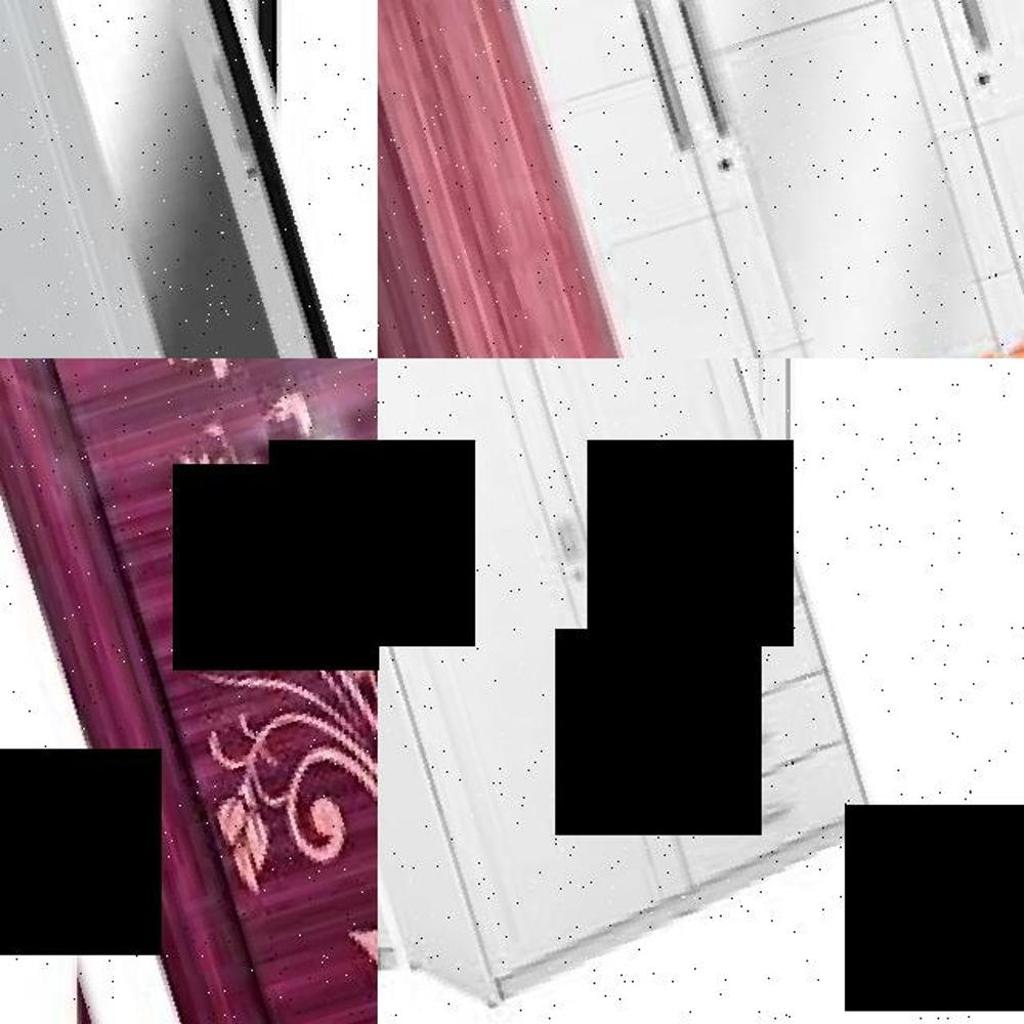cabinet: (378, 358, 853, 1024), (0, 358, 378, 1024), (378, 0, 1024, 358), (0, 0, 357, 358)
